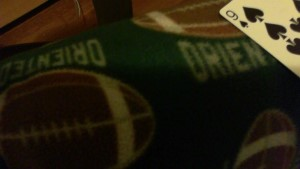NineOfSpades: (218, 1, 300, 77)
